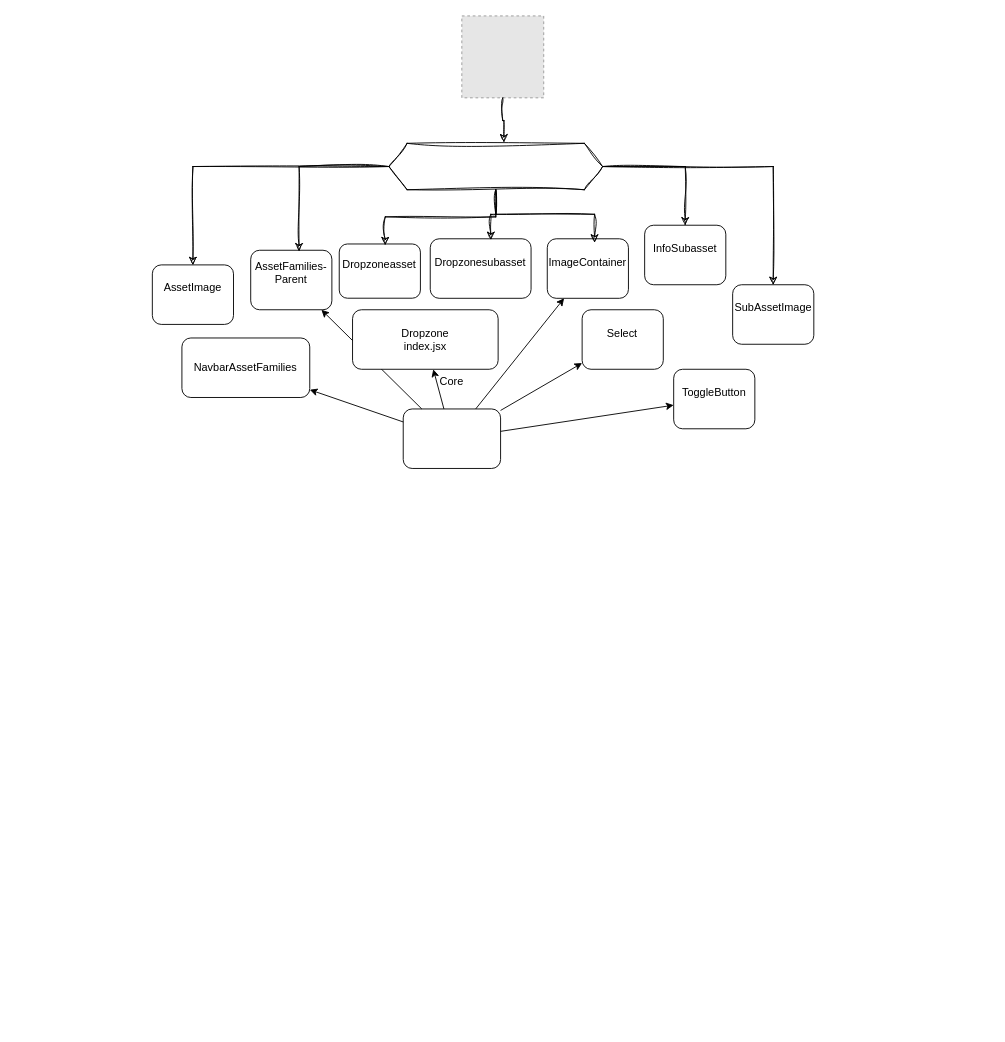
Some shapes in this 1005 by 1042 pixel diagram are drawn without their labels. Grey dashed boxes stand in for pictures. The shapes that lost their labels are listed below. From the top down, each one's centre as x and y in pixels, then its label:
At pixel 495 166: "AssetFamiliesManager".
At pixel 451 438: "TabButtons index.jsx".
